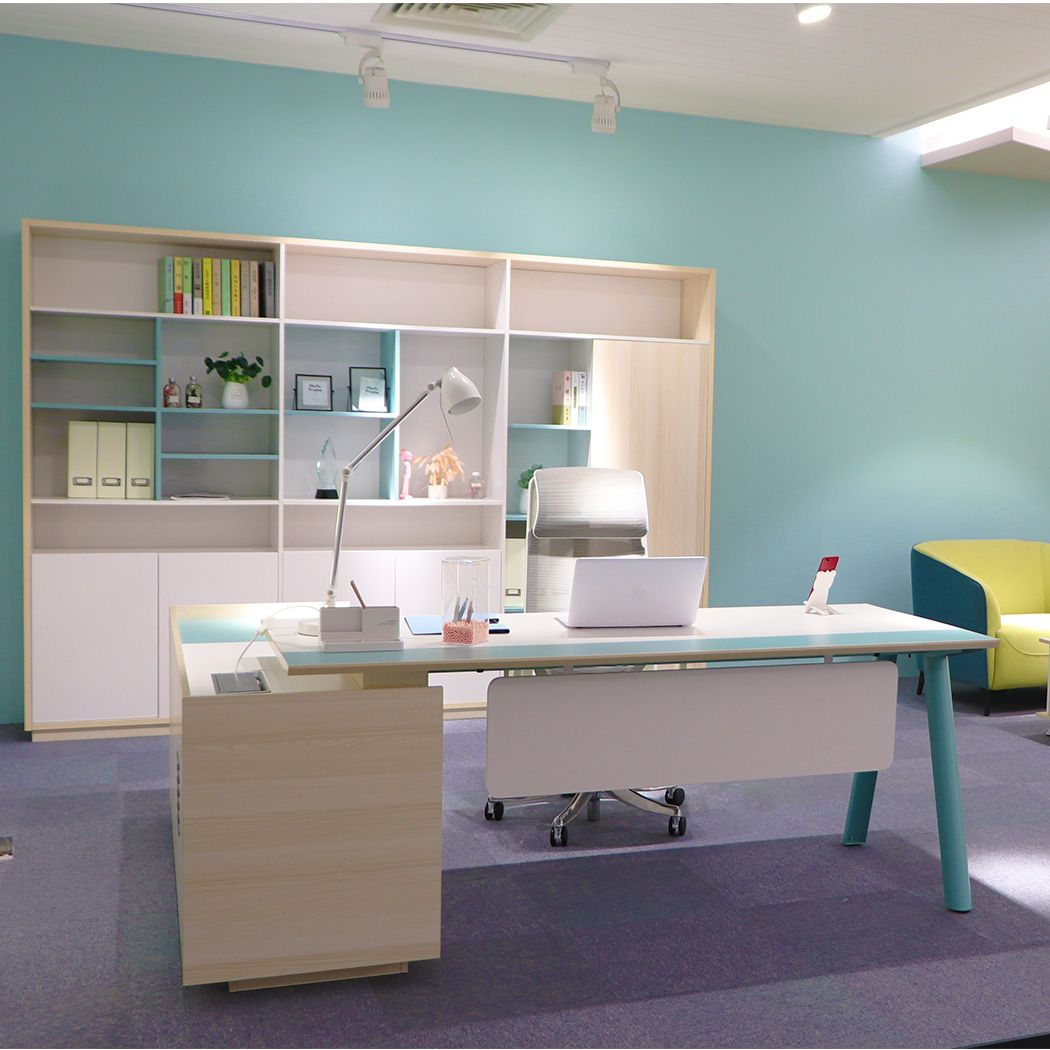not a gesture sign: (0, 679, 1049, 1046)
